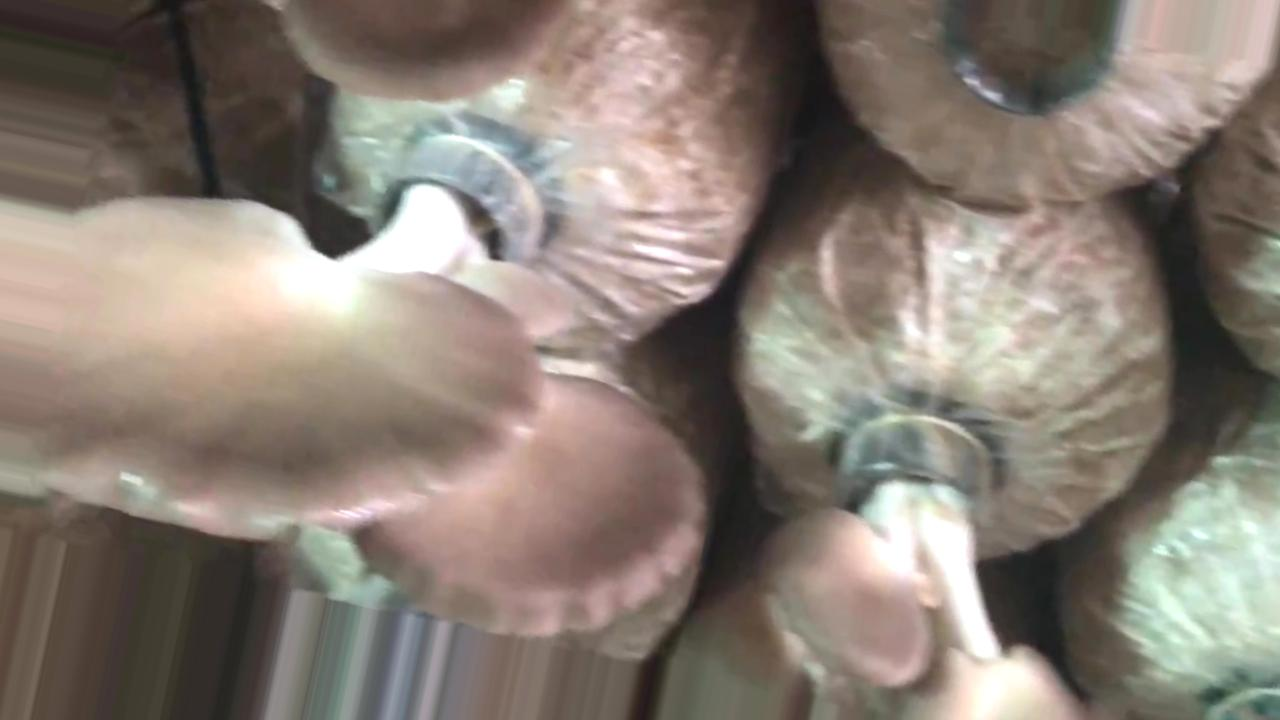nam: (49, 120, 545, 541), (661, 409, 1088, 720), (350, 367, 710, 642), (281, 1, 582, 105)
